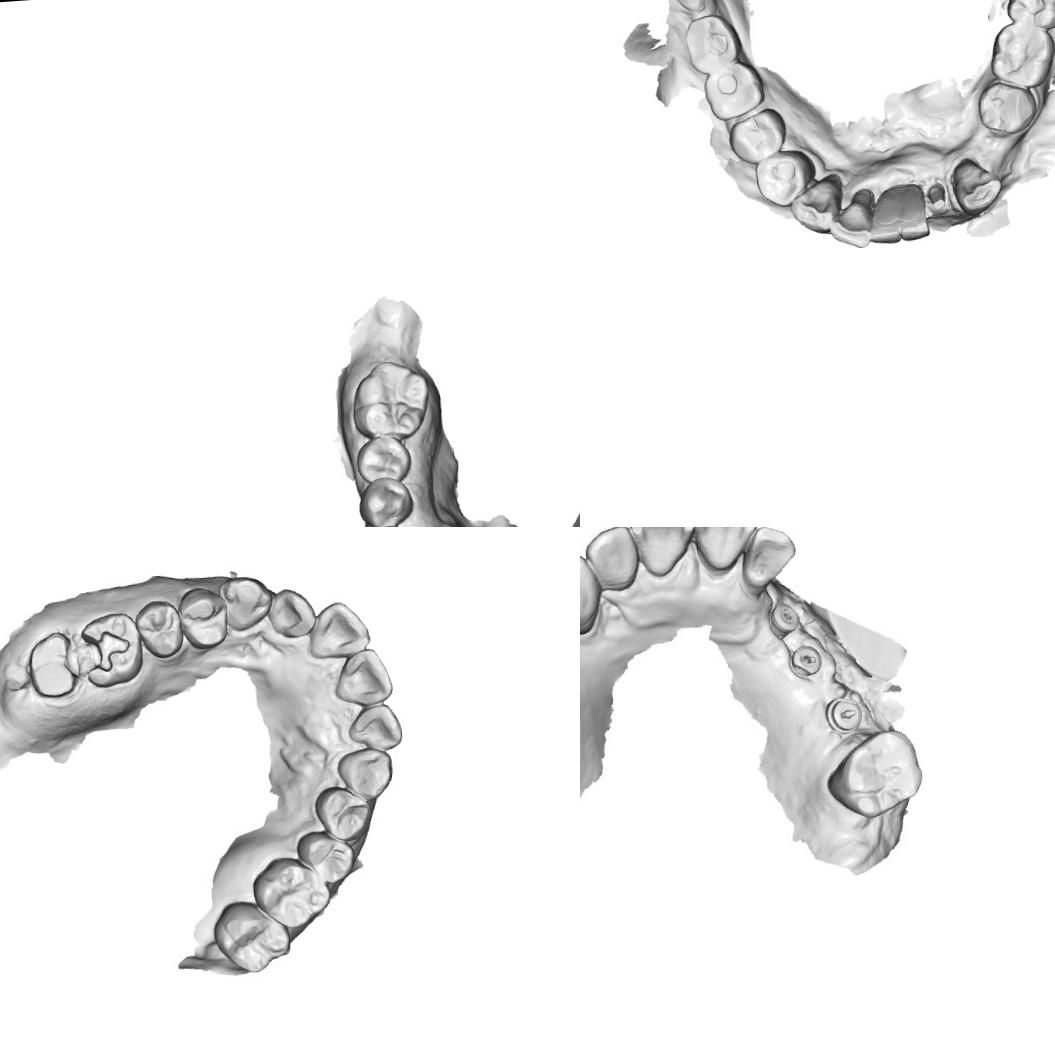abutment: (926, 181, 948, 211)
canine: (787, 171, 845, 237), (334, 746, 396, 802), (950, 153, 1004, 217), (217, 572, 273, 633), (580, 548, 605, 638)
crown: (21, 627, 81, 700)
implant_minus: (823, 690, 864, 734), (766, 600, 803, 645), (789, 642, 828, 680)
incisor: (302, 596, 374, 662), (739, 527, 802, 598), (328, 645, 396, 708), (582, 527, 638, 592), (626, 527, 695, 576), (344, 701, 404, 756), (689, 527, 761, 572), (826, 186, 876, 250), (265, 582, 318, 639), (866, 182, 901, 246), (896, 181, 930, 242)
inlay: (78, 626, 134, 678)
molar: (828, 729, 921, 815), (346, 355, 434, 441), (247, 852, 334, 932), (210, 895, 294, 976), (986, 16, 1055, 91), (699, 58, 766, 123), (683, 12, 744, 76), (1002, 0, 1055, 32)
premolar: (752, 146, 818, 209), (724, 104, 788, 166), (312, 782, 375, 844), (293, 827, 358, 886), (176, 583, 230, 653), (974, 78, 1038, 136), (352, 474, 415, 527), (350, 432, 414, 484), (132, 596, 182, 662)
